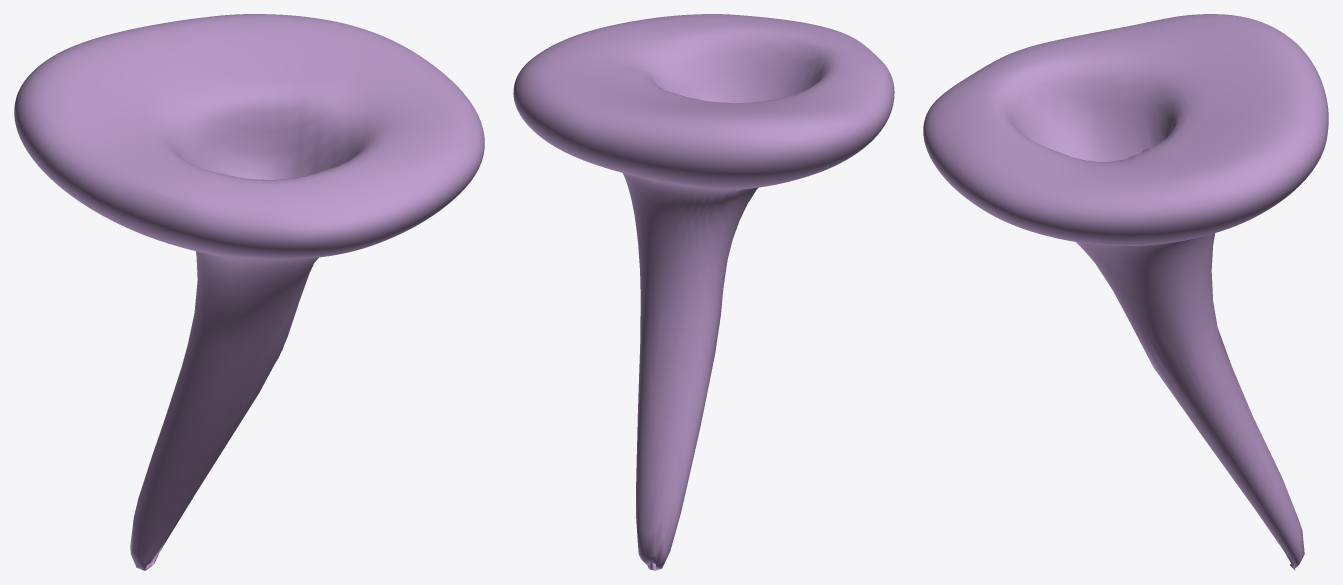
Rendered from mushroom_3.fbx.
The picture shows the model from 3 angles, left to right: view 1: azimuth 30°, elevation 25°; view 2: azimuth 150°, elevation 25°; view 3: azimuth 270°, elevation 25°; orthographic projection. The views are drawn at different scales.
Visible parts, largest first — view 1: Cube.004; view 2: Cube.004; view 3: Cube.004.
Part boxes in pixels (x1,y1,x2,y2): Cube.004: (14,14,484,570); Cube.004: (513,14,894,570); Cube.004: (923,14,1328,570).
Bounding box in the file's own units: 156 × 204 × 152.
